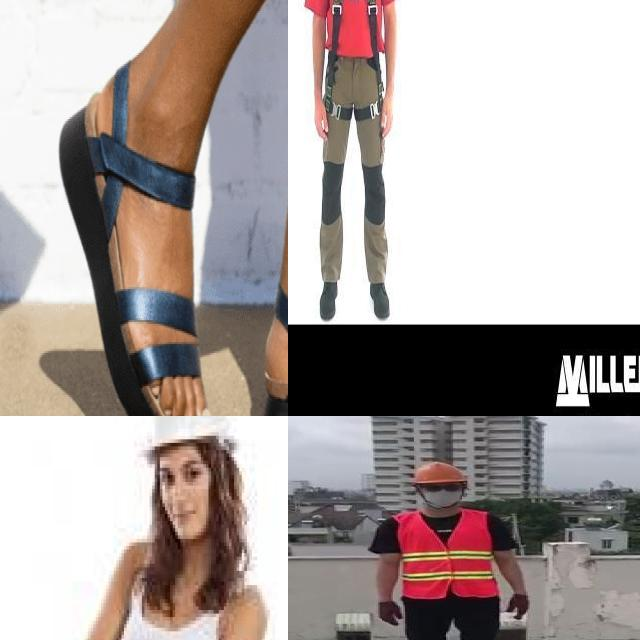Harness: (324, 0, 385, 121)
No_Glasses: (158, 452, 212, 496)
head_helmet: (410, 461, 468, 485)
person: (366, 457, 539, 640)
vest: (389, 510, 503, 600)
